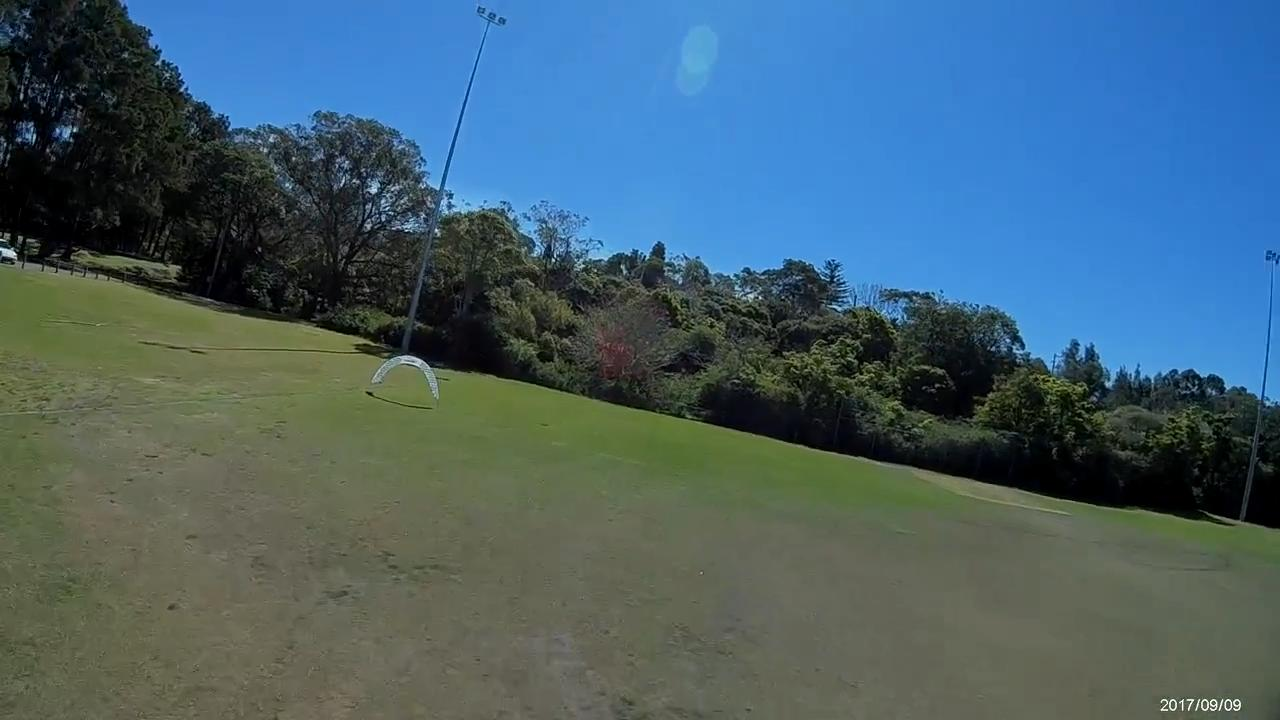gate: (370, 353, 438, 401)
